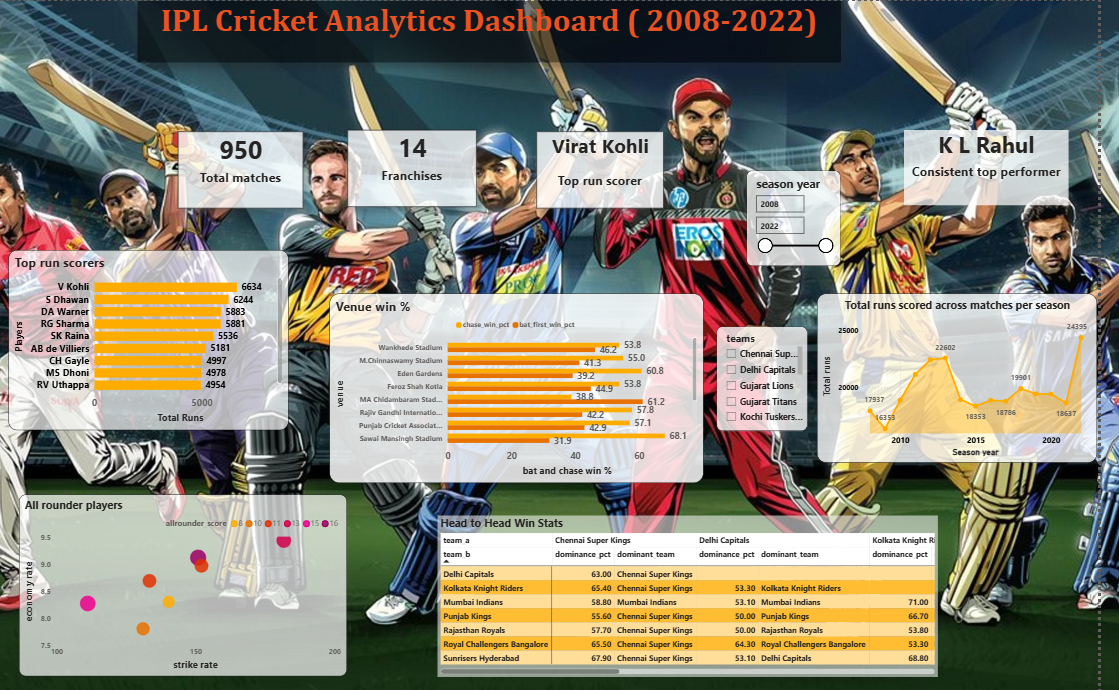

The page's visual inventory and layout, read from the dashboard file:
{"tool":"powerbi","page":{"name":"Page 1","canvas":[1920,1200],"ordinal":0},"visuals":[{"type":"clusteredBarChart","title":"Top run scorers","fields":{"Category":["public player_batting_stats.player"],"Y":["Sum(public player_batting_stats.total_runs)"]},"box":[57.9,426.3,478.9,307.9],"z":0},{"type":"lineChart","title":"Total runs scored across matches per season","fields":{"Y":["Sum(public deliveries_clean.total_run)"],"Category":["public matches_clean.season_year"]},"box":[1442.1,500,478.9,289.5],"z":1000},{"type":"clusteredBarChart","title":"Venue win %","fields":{"Category":["public venue_batting_stats.venue"],"Y":["Sum(public venue_batting_stats.chase_win_pct)","Sum(public venue_batting_stats.bat_first_win_pct)"]},"box":[607.9,500,639.5,323.7],"z":2000},{"type":"textbox","title":"IPL Cricket Analytics Dashboard ( 2008-2022)","box":[279.5,0,1202.6,105.1],"z":3000},{"type":"slicer","fields":{"Values":["public matches_clean.season_year"]},"box":[1321.1,289.5,160.5,163.2],"z":4000},{"type":"slicer","fields":{"Values":["public matches_clean.team1"]},"box":[1268.4,555.3,155.3,178.9],"z":5000},{"type":"scatterChart","title":"All rounder players ","fields":{"X":["public allrounder_index.strike_rate"],"Y":["public allrounder_index.economy_rate"],"Series":["public allrounder_index.allrounder_score"],"Size":["Sum(public allrounder_index.allrounder_score)"]},"box":[76.3,844.7,560.5,310.5],"z":6000},{"type":"textbox","title":"950","box":[348.3,224.1,213.8,131],"z":7000},{"type":"textbox","title":"14","box":[637.9,220.7,220.7,131],"z":8000},{"type":"textbox","title":"Virat Kohli","box":[962.1,224.1,217.2,131],"z":9000},{"type":"pivotTable","title":"Head to Head Win Stats","fields":{"Rows":["public head_to_head_stats.team_b"],"Columns":["public head_to_head_stats.team_a"],"Values":["Sum(public head_to_head_stats.dominance_pct)","Min(public head_to_head_stats.dominant_team)"]},"box":[792.1,878.9,855.3,276.3],"z":10000},{"type":"textbox","title":"K L Rahul","box":[1589.5,221.1,281.6,128.9],"z":11000}]}

Visuals, with their boxes in screenshot pixels (x1, y1, x2, y2), scaled from the page's 1920x1200 canvas onto the 1119x690 screenshot:
"Top run scorers" clusteredBarChart: (34,245,313,422)
"Total runs scored across matches per season" lineChart: (840,288,1118,454)
"Venue win %" clusteredBarChart: (354,288,727,474)
"IPL Cricket Analytics Dashboard ( 2008-2022)" textbox: (163,0,864,60)
slicer - public matches_clean.season_year: (770,166,863,260)
slicer - public matches_clean.team1: (739,319,830,422)
"All rounder players " scatterChart: (44,486,371,664)
"950" textbox: (203,129,328,204)
"14" textbox: (372,127,500,202)
"Virat Kohli" textbox: (561,129,687,204)
"Head to Head Win Stats" pivotTable: (462,505,960,664)
"K L Rahul" textbox: (926,127,1091,201)
